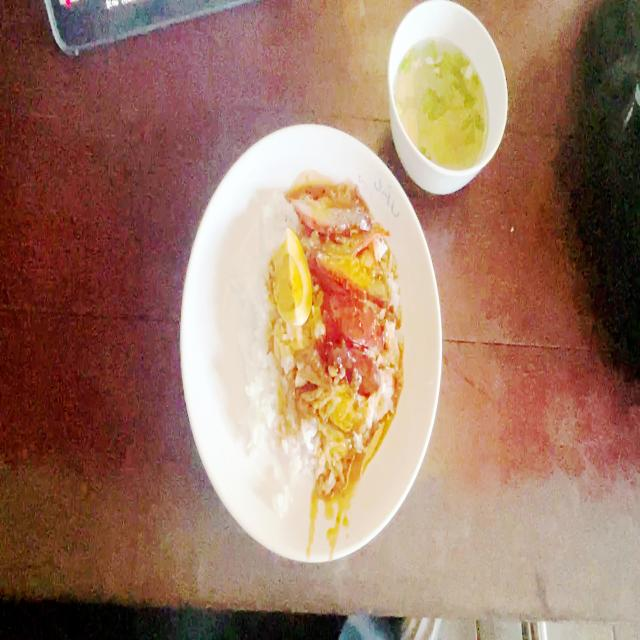boiled_egg: (278, 232, 311, 323)
chainese_sausage: (323, 299, 386, 392), (326, 302, 388, 346), (331, 350, 382, 380)
crispy_pork: (307, 376, 363, 456)
red_pork: (299, 189, 392, 299), (298, 188, 376, 246), (320, 242, 387, 296)
red_pork_and_crispy_pork: (243, 189, 391, 479)
rice: (247, 335, 294, 491), (246, 201, 274, 340), (274, 188, 294, 229)
